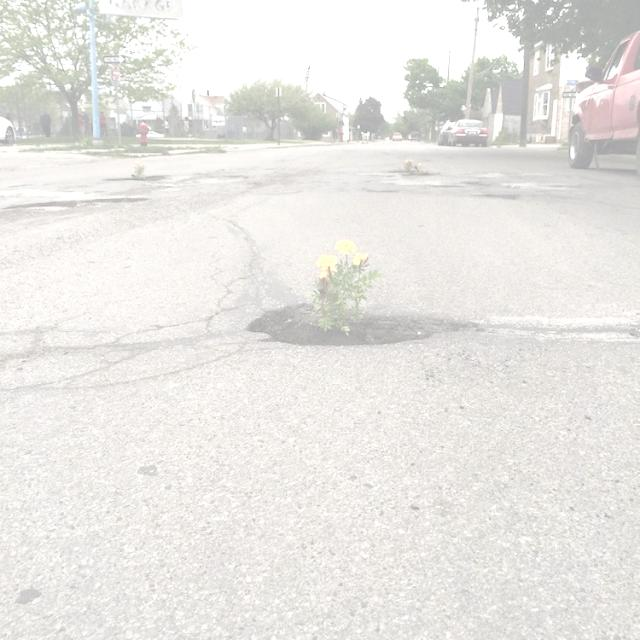Pothole: (232, 291, 478, 355), (358, 157, 577, 210), (6, 189, 151, 221), (96, 161, 171, 186)
